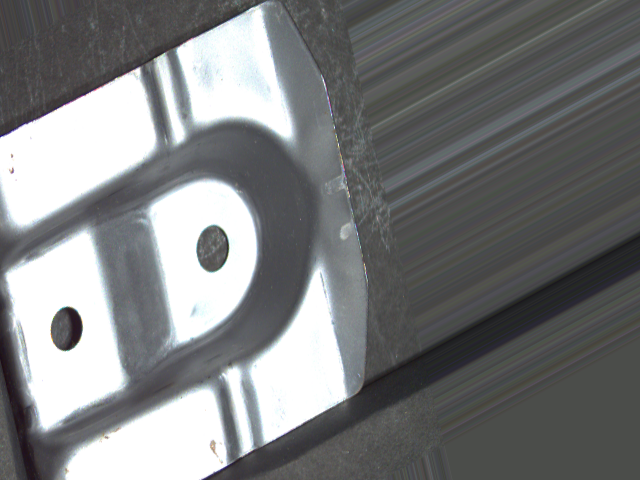defect: (192, 220, 232, 275)
